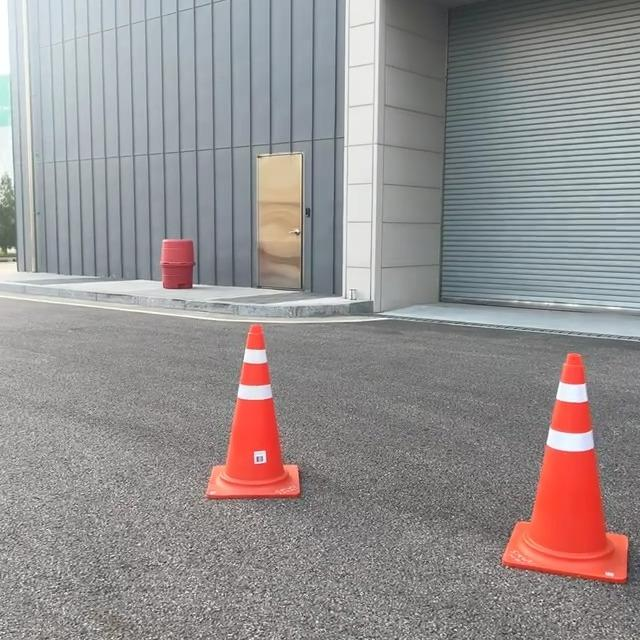fallen_object: (463, 327, 640, 637), (149, 307, 301, 517)
